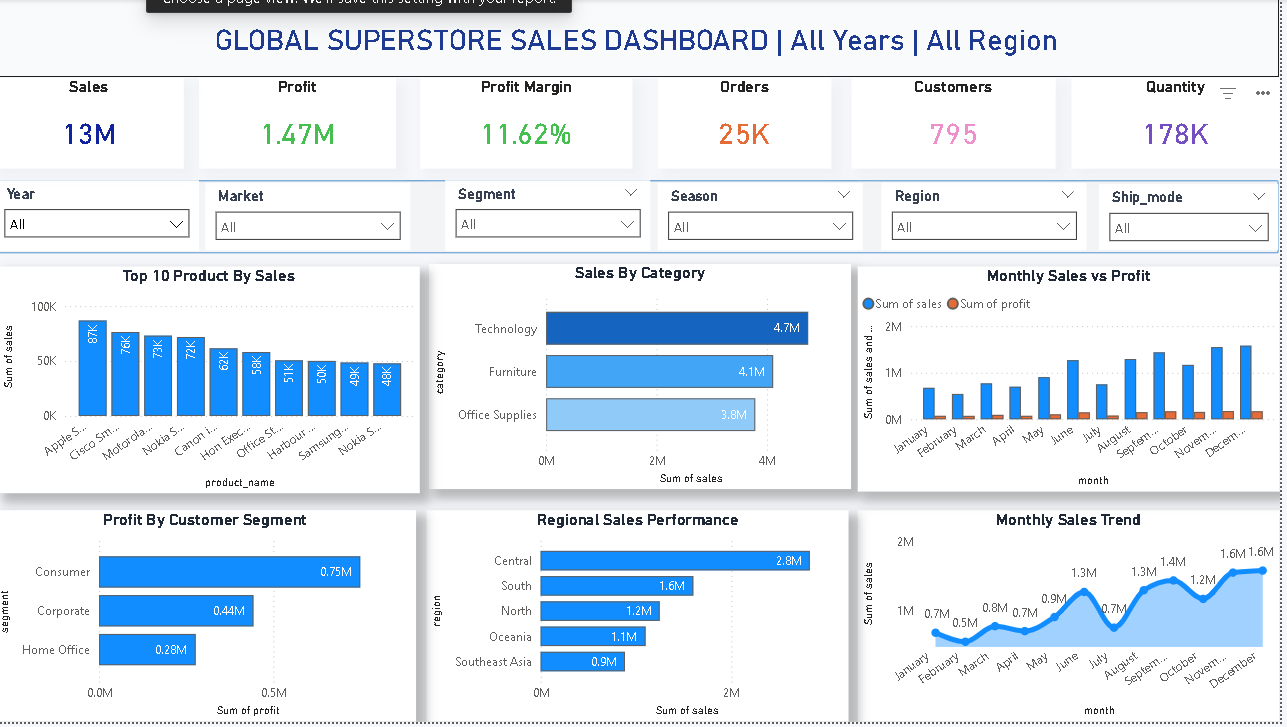

Layout of this report page (visuals, bound fields, positions):
{"tool":"powerbi","page":{"name":"Sales Dashboard","canvas":[1280,720],"ordinal":0},"visuals":[{"type":"shape","box":[0,180,1278.6,72.9],"z":0},{"type":"slicer","fields":{"Values":["super_store_raw_data - super_store_raw_data csv (4) - Super_Store_Data (1).season"]},"box":[660,182.9,204.3,67.1],"z":1000},{"type":"slicer","fields":{"Values":["super_store_raw_data - super_store_raw_data csv (4) - Super_Store_Data (1).market"]},"box":[210,182.9,204.3,67.1],"z":2000},{"type":"slicer","fields":{"Values":["super_store_raw_data - super_store_raw_data csv (4) - Super_Store_Data (1).year"]},"box":[0,180,204.3,70],"z":3000},{"type":"slicer","fields":{"Values":["super_store_raw_data - super_store_raw_data csv (4) - Super_Store_Data (1).ship_mode"]},"box":[1100,184.3,178.6,65.7],"z":4000},{"type":"slicer","fields":{"Values":["super_store_raw_data - super_store_raw_data csv (4) - Super_Store_Data (1).segment"]},"box":[448.6,180,204,70],"z":5000},{"type":"slicer","fields":{"Values":["super_store_raw_data - super_store_raw_data csv (4) - Super_Store_Data (1).region"]},"box":[882.9,182.9,204.3,67.1],"z":6000},{"type":"card","title":"Orders","fields":{"Values":["super_store_raw_data - super_store_raw_data csv (4) - Super_Store_Data (1).Total_Orders"]},"box":[660,78.6,172.9,90],"z":7000},{"type":"card","title":"Profit","fields":{"Values":["super_store_raw_data - super_store_raw_data csv (4) - Super_Store_Data (1).Total_Profit"]},"box":[204.3,78.6,195.7,90],"z":8000},{"type":"card","title":"Sales","fields":{"Values":["super_store_raw_data - super_store_raw_data csv (4) - Super_Store_Data (1).Total_Sales"]},"box":[0,78.6,188.6,90],"z":9000},{"type":"card","title":"Customers","fields":{"Values":["super_store_raw_data - super_store_raw_data csv (4) - Super_Store_Data (1).Total_Custommers"]},"box":[852.9,78.6,202.9,90],"z":10000},{"type":"card","title":"Quantity","fields":{"Values":["super_store_raw_data - super_store_raw_data csv (4) - Super_Store_Data (1).Total_Quantity"]},"box":[1072.9,78.6,207.1,90],"z":11000},{"type":"barChart","title":"Sales By Category","fields":{"Category":["super_store_raw_data - super_store_raw_data csv (4) - Super_Store_Data (1).category"],"Y":["Sum(super_store_raw_data - super_store_raw_data csv (4) - Super_Store_Data (1).sales)"]},"box":[432.9,264.3,420,224.3],"z":12000},{"type":"card","title":"Profit Margin","fields":{"Values":["super_store_raw_data - super_store_raw_data csv (4) - Super_Store_Data (1).Profit_Margin %"]},"box":[424.3,78.6,211.4,90],"z":13000},{"type":"lineChart","title":"Monthly Sales Trend  ","fields":{"Y":["Sum(super_store_raw_data - super_store_raw_data csv (4) - Super_Store_Data (1).sales)"],"Category":["super_store_raw_data - super_store_raw_data csv (4) - Super_Store_Data (1).month"]},"box":[860,508.6,420,210],"z":14000},{"type":"barChart","title":"Regional Sales Performance","fields":{"Category":["super_store_raw_data - super_store_raw_data csv (4) - Super_Store_Data (1).region"],"Y":["Sum(super_store_raw_data - super_store_raw_data csv (4) - Super_Store_Data (1).sales)"]},"box":[430,508.6,420,210],"z":15000},{"type":"clusteredColumnChart","title":"Top 10 Product By Sales","fields":{"Category":["super_store_raw_data - super_store_raw_data csv (4) - Super_Store_Data (1).product_name"],"Y":["Sum(super_store_raw_data - super_store_raw_data csv (4) - Super_Store_Data (1).sales)"]},"box":[4.3,265.7,420,225.7],"z":16000},{"type":"barChart","title":"Profit By Customer Segment","fields":{"Category":["super_store_raw_data - super_store_raw_data csv (4) - Super_Store_Data (1).segment"],"Y":["Sum(super_store_raw_data - super_store_raw_data csv (4) - Super_Store_Data (1).profit)"]},"box":[0,508.6,420,210],"z":17000},{"type":"clusteredColumnChart","title":"Monthly Sales vs Profit","fields":{"Y":["Sum(super_store_raw_data - super_store_raw_data csv (4) - Super_Store_Data (1).sales)","Sum(super_store_raw_data - super_store_raw_data csv (4) - Super_Store_Data (1).profit)"],"Category":["super_store_raw_data - super_store_raw_data csv (4) - Super_Store_Data (1).month"]},"box":[860,265.7,420,224],"z":18000},{"type":"card","fields":{"Values":["SalesData.Dashboard Title"]},"box":[0,0,1278.6,78.6],"z":19000}]}

Visuals, with their boxes on the page's 1280x720 design canvas (x1, y1, x2, y2). These are canvas units, not pixel positions in the 1287x727 screenshot, which may show the page scaled, cropped or inside an application window:
shape: {"left": 0, "top": 180, "right": 1279, "bottom": 253}
slicer - super_store_raw_data - super_store_raw_data csv (4) - Super_Store_Data (1).season: {"left": 660, "top": 183, "right": 864, "bottom": 250}
slicer - super_store_raw_data - super_store_raw_data csv (4) - Super_Store_Data (1).market: {"left": 210, "top": 183, "right": 414, "bottom": 250}
slicer - super_store_raw_data - super_store_raw_data csv (4) - Super_Store_Data (1).year: {"left": 0, "top": 180, "right": 204, "bottom": 250}
slicer - super_store_raw_data - super_store_raw_data csv (4) - Super_Store_Data (1).ship_mode: {"left": 1100, "top": 184, "right": 1279, "bottom": 250}
slicer - super_store_raw_data - super_store_raw_data csv (4) - Super_Store_Data (1).segment: {"left": 449, "top": 180, "right": 653, "bottom": 250}
slicer - super_store_raw_data - super_store_raw_data csv (4) - Super_Store_Data (1).region: {"left": 883, "top": 183, "right": 1087, "bottom": 250}
"Orders" card: {"left": 660, "top": 79, "right": 833, "bottom": 169}
"Profit" card: {"left": 204, "top": 79, "right": 400, "bottom": 169}
"Sales" card: {"left": 0, "top": 79, "right": 189, "bottom": 169}
"Customers" card: {"left": 853, "top": 79, "right": 1056, "bottom": 169}
"Quantity" card: {"left": 1073, "top": 79, "right": 1280, "bottom": 169}
"Sales By Category" barChart: {"left": 433, "top": 264, "right": 853, "bottom": 489}
"Profit Margin" card: {"left": 424, "top": 79, "right": 636, "bottom": 169}
"Monthly Sales Trend  " lineChart: {"left": 860, "top": 509, "right": 1280, "bottom": 719}
"Regional Sales Performance" barChart: {"left": 430, "top": 509, "right": 850, "bottom": 719}
"Top 10 Product By Sales" clusteredColumnChart: {"left": 4, "top": 266, "right": 424, "bottom": 491}
"Profit By Customer Segment" barChart: {"left": 0, "top": 509, "right": 420, "bottom": 719}
"Monthly Sales vs Profit" clusteredColumnChart: {"left": 860, "top": 266, "right": 1280, "bottom": 490}
card - SalesData.Dashboard Title: {"left": 0, "top": 0, "right": 1279, "bottom": 79}
